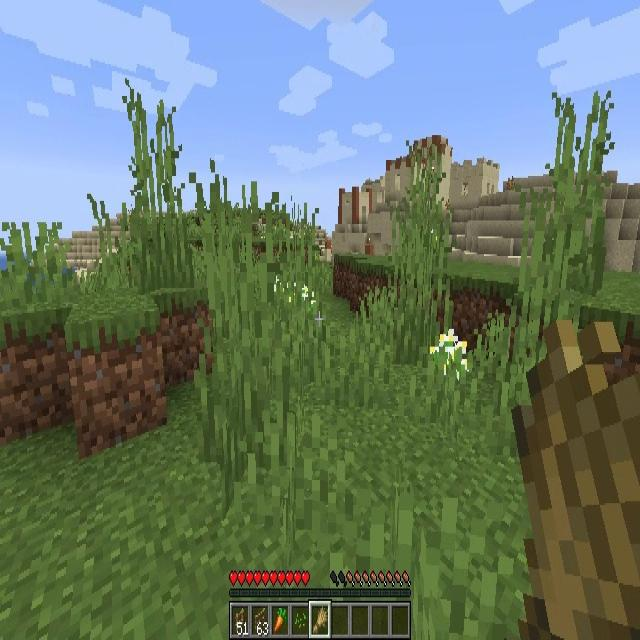flower: (430, 330, 467, 384)
